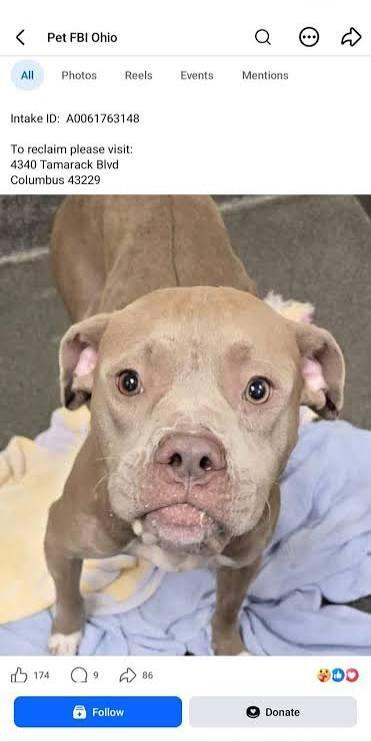adult_dog: (44, 197, 347, 658)
